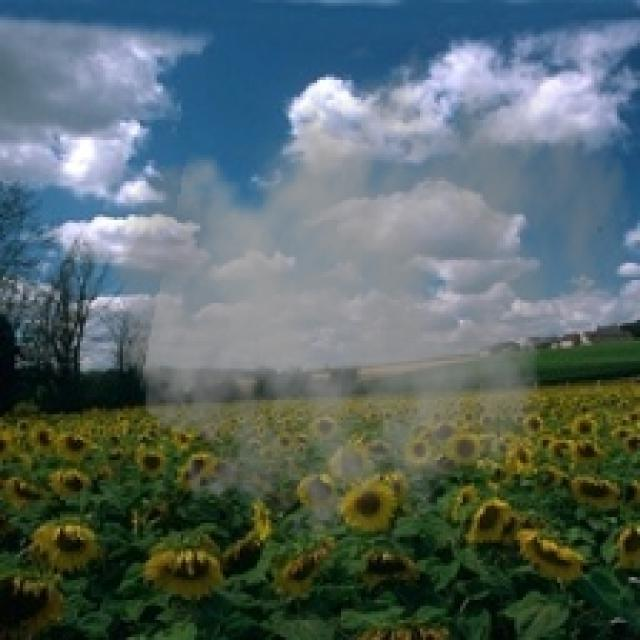smoke: (103, 23, 634, 560)
